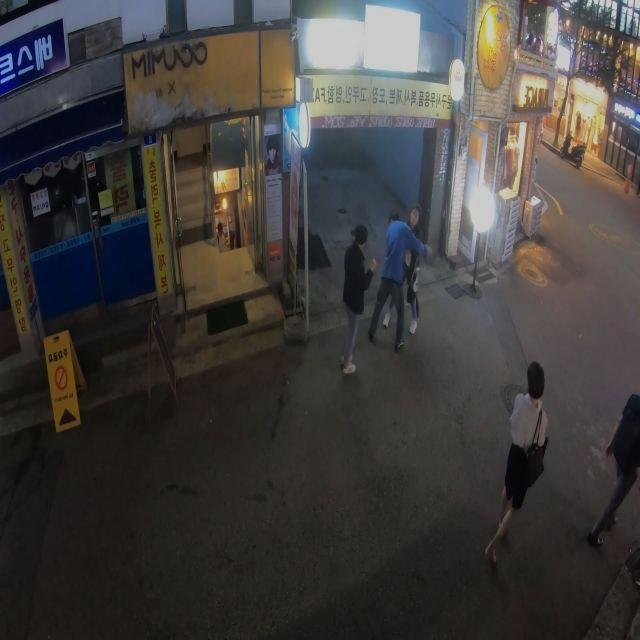fight: (367, 207, 424, 352)
non-fight: (483, 360, 550, 567), (587, 386, 639, 554)
